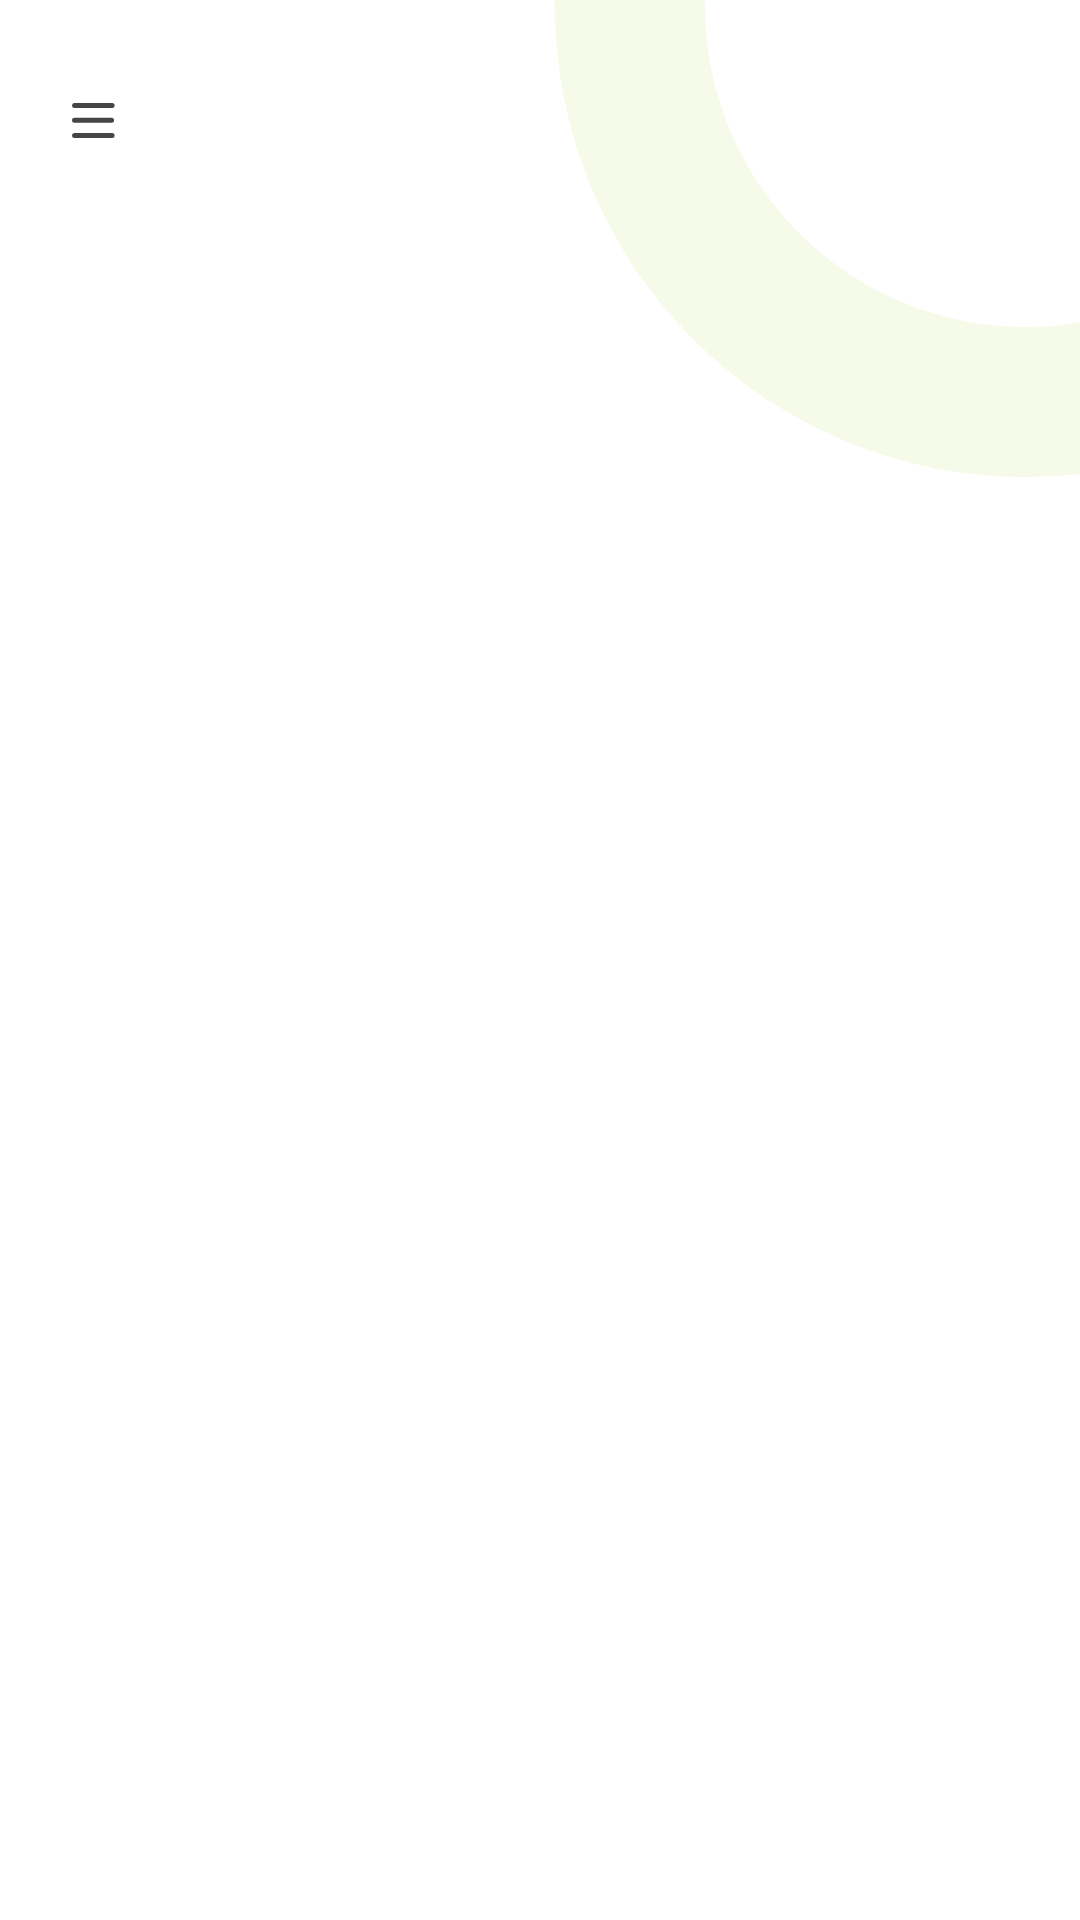

Icon click points for this 1080×1920 phone screenshot, format (x,y):
ham burger: (93,120)
